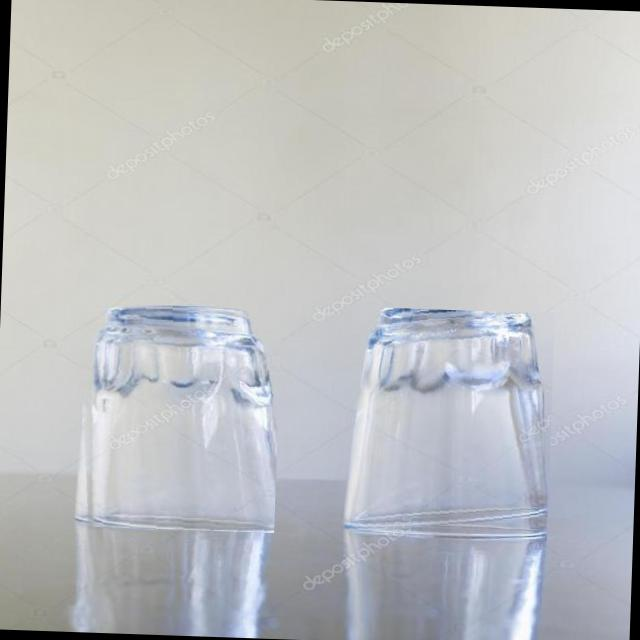Glass: (343, 306, 554, 540), (70, 300, 282, 532)
